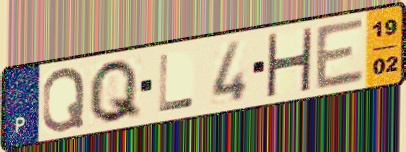4: (209, 39, 250, 104)
E: (314, 15, 367, 93)
H: (263, 27, 315, 98)
L: (157, 51, 197, 114)
Q: (86, 57, 144, 126), (40, 65, 88, 135)
